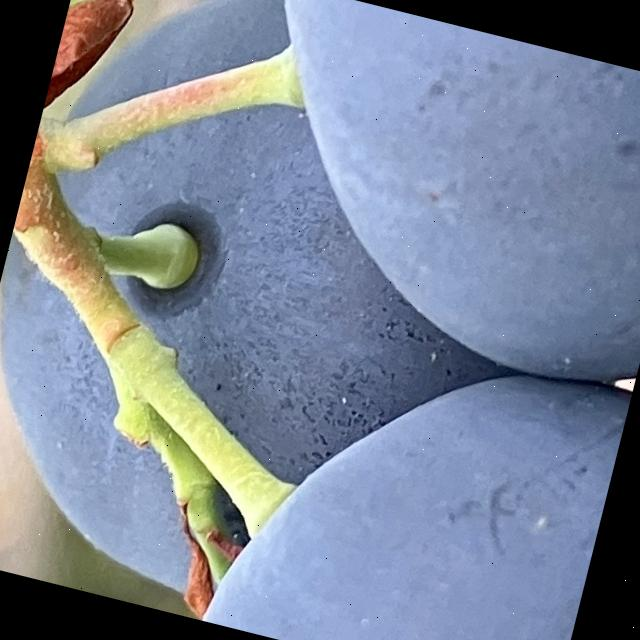Blueberries: (187, 0, 640, 397), (175, 293, 633, 640)
